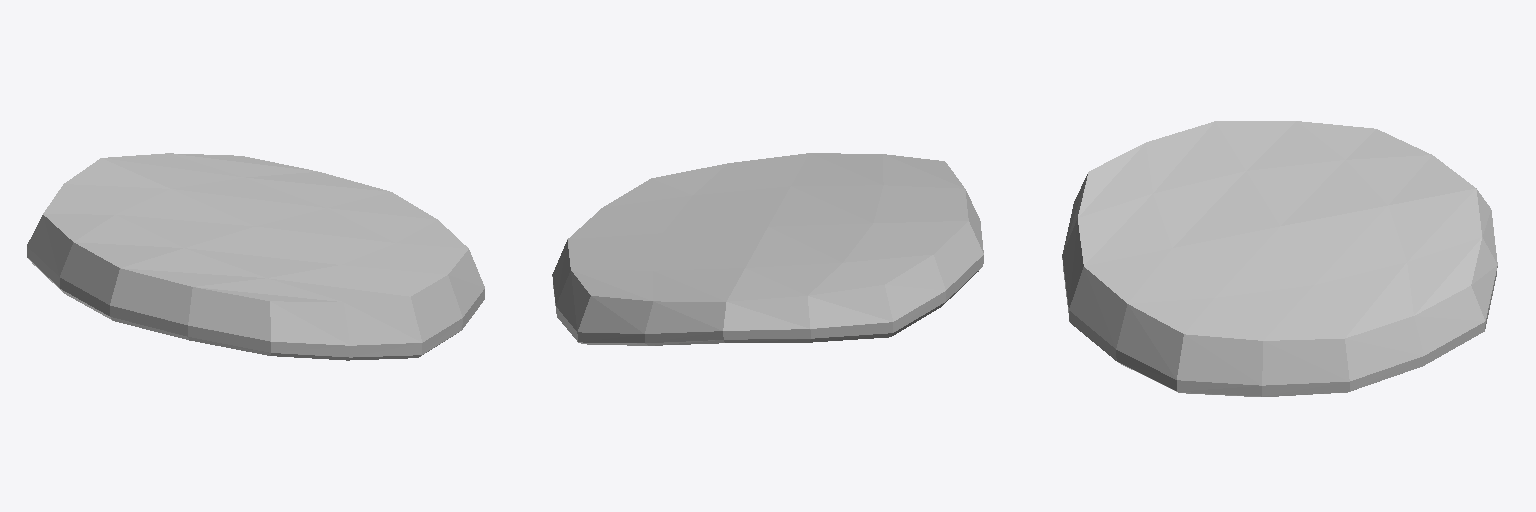
The model's file is slice_07.obj.
3 views of the same model, side by side, from view 1: azimuth 30°, elevation 25°; view 2: azimuth 150°, elevation 25°; view 3: azimuth 270°, elevation 25° (orthographic).
Visible parts, largest first — view 1: slice_07_Cube.017; view 2: slice_07_Cube.017; view 3: slice_07_Cube.017.
Boxes of the visible parts, box(x1,y1,x2,y2) form: slice_07_Cube.017: box(27, 153, 484, 360); slice_07_Cube.017: box(552, 153, 983, 345); slice_07_Cube.017: box(1062, 121, 1497, 396).
Bounding box in the file's own units: 2.09 × 0.561 × 2.11.